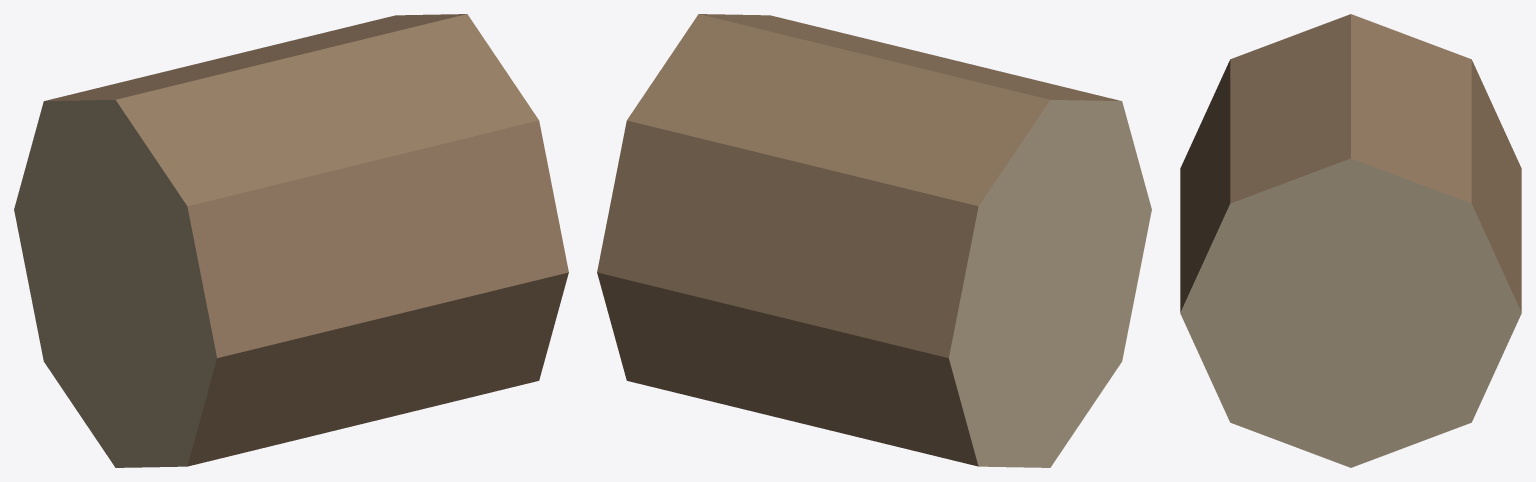
File: log.glb
3 views of the same model, side by side, from view 1: azimuth 30°, elevation 25°; view 2: azimuth 150°, elevation 25°; view 3: azimuth 270°, elevation 25° (orthographic). The views are drawn at different scales.
Parts seen in each view (by area): view 1: log; view 2: log; view 3: log.
Part boxes in pixels (x1,y1,x2,y2): log: (14,14,568,467); log: (597,14,1151,467); log: (1180,14,1521,467).
Bounding box in the file's own units: 2 × 2 × 2.
